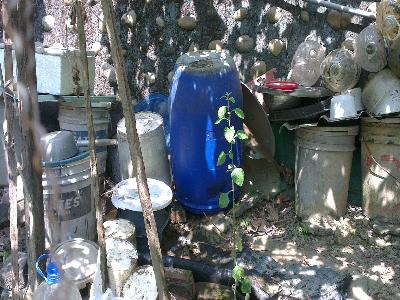bowl: (34, 126, 81, 163), (327, 90, 359, 120)
bucket: (170, 49, 248, 216), (291, 118, 359, 227), (33, 156, 99, 251), (114, 108, 171, 191), (360, 112, 400, 224), (58, 102, 112, 173), (353, 23, 390, 74), (322, 45, 363, 91), (289, 40, 326, 86)
plate: (46, 237, 101, 288), (110, 176, 174, 213), (266, 80, 299, 91)
styrofoam: (1, 43, 96, 96)
